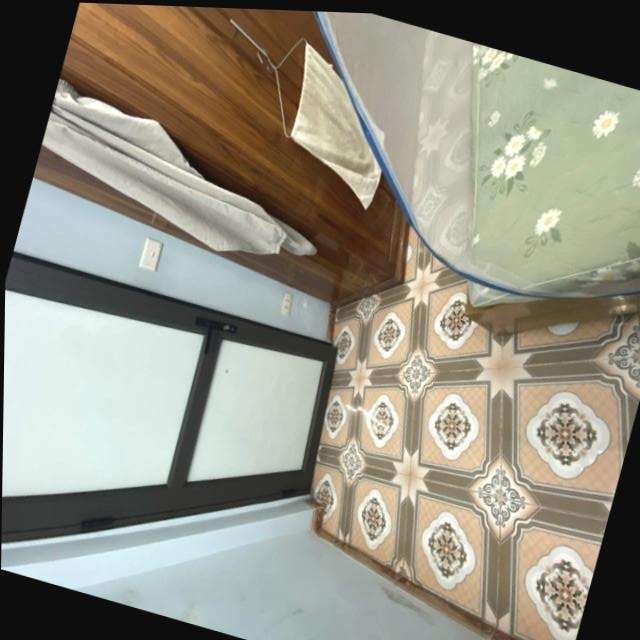outlet: (277, 292, 295, 319)
